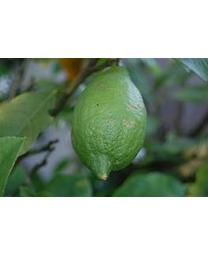lemon: (71, 66, 148, 183)
